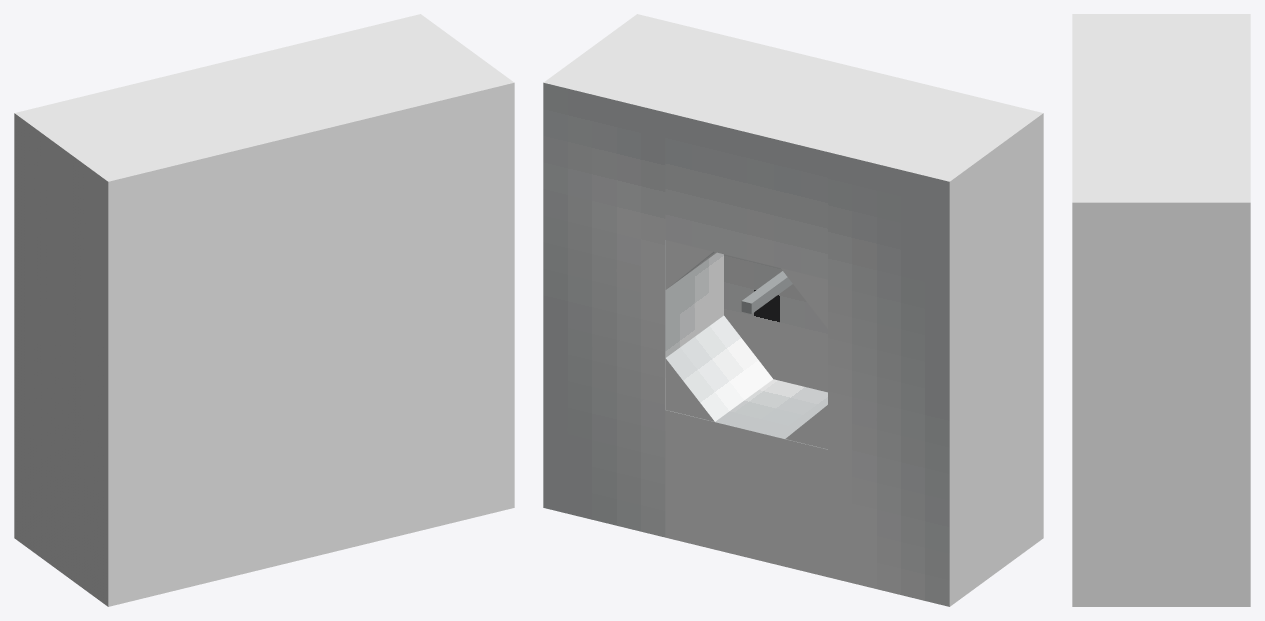
File: gniazdko.gltf
3 views of the same model, side by side, from view 1: azimuth 30°, elevation 25°; view 2: azimuth 150°, elevation 25°; view 3: azimuth 270°, elevation 25° (orthographic). The views are drawn at different scales.
Visible parts, largest first — view 1: cube (×4); view 2: cube (×10); view 3: cube (×4).
Boxes of the visible parts, bbox=[...] form: cube (×4): bbox=[14, 14, 514, 606]; cube (×10): bbox=[543, 14, 1043, 606]; cube (×4): bbox=[1072, 14, 1250, 606].
Size of the model in its own units: 0.0625 by 0.0625 by 0.025.
Materials: 1 (1 with a texture image).
